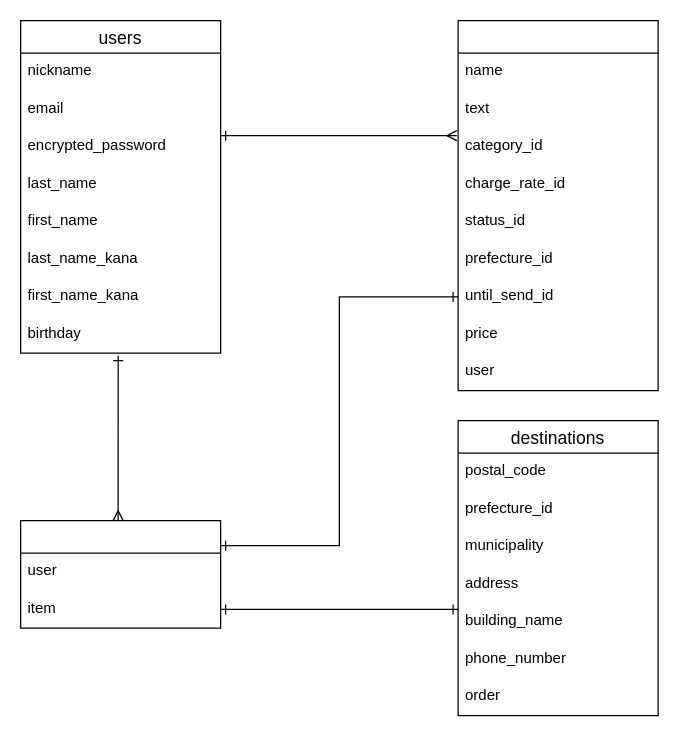
Image size: 679x736. Some labels were removed from this diagram. The shapes that lost their labels are listed below. From the top down, each one's box as (x1, y1, x2, y2) in pixels, then its label:
(457, 19, 658, 391): items
(19, 519, 221, 628): orders
